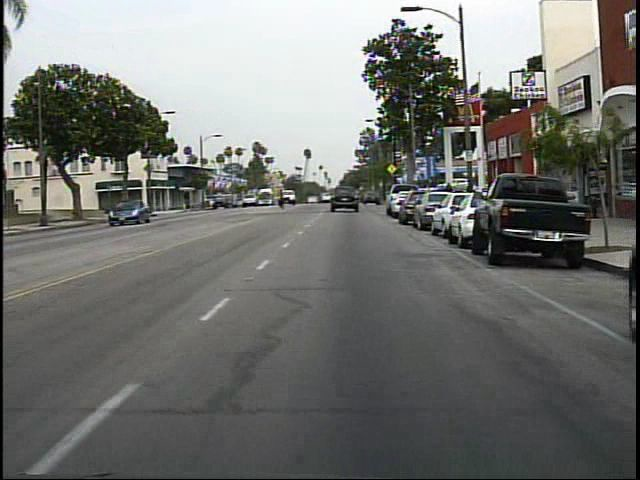person: (439, 178, 459, 217), (275, 185, 289, 214)
